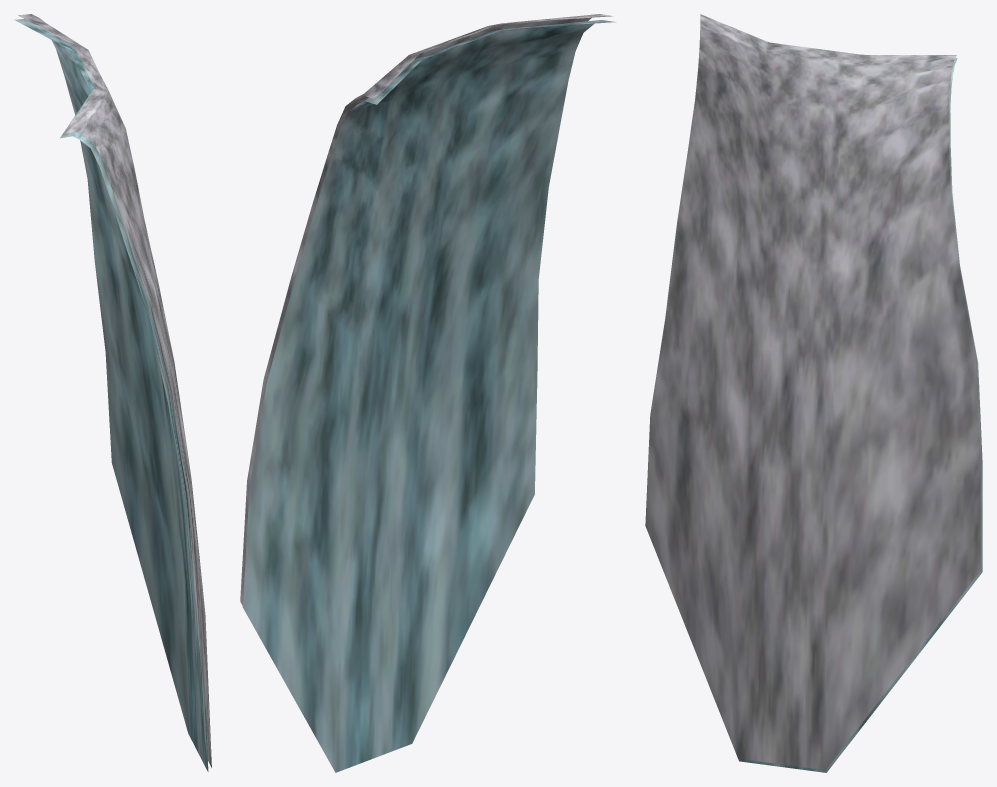
File: TROLLHOLE02_WATERFALLIN03.fbx
3 renders of one model, left to right at view 1: azimuth 30°, elevation 25°; view 2: azimuth 150°, elevation 25°; view 3: azimuth 270°, elevation 25°, orthographic. The views are drawn at different scales.
Parts seen in each view (by area): view 1: TROLLHOLE02_WATERFALLIN03; view 2: TROLLHOLE02_WATERFALLIN03; view 3: TROLLHOLE02_WATERFALLIN03.
Part boxes in pixels (x1,y1,x2,y2): TROLLHOLE02_WATERFALLIN03: [14, 14, 211, 771]; TROLLHOLE02_WATERFALLIN03: [240, 14, 616, 772]; TROLLHOLE02_WATERFALLIN03: [645, 14, 982, 772].
Bounding box in the file's own units: 36459 × 121064 × 54957.
Materials: 2 (2 with a texture image).
